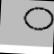no answer: (22, 5, 54, 33)
